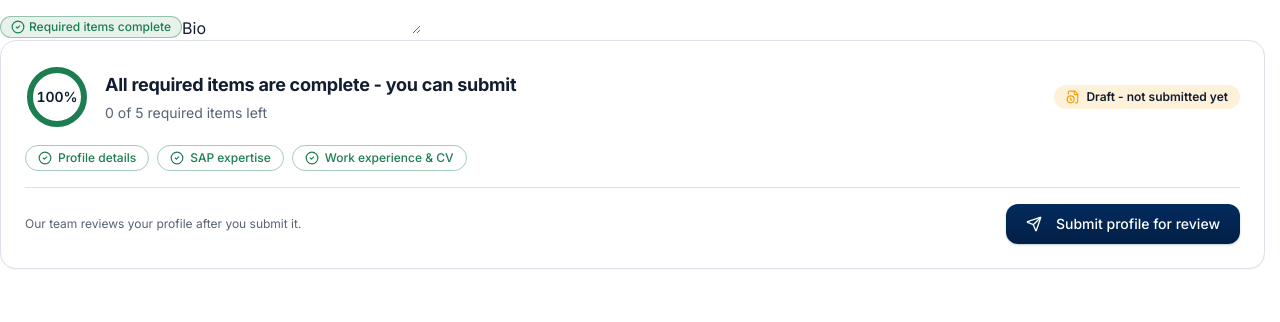
profile submit gate (Feature V) › shows the server's refusal when it still finds missing items
Click the button with test id "submit-profile". click: point(1123, 224)
box: [1006, 204, 1240, 244]
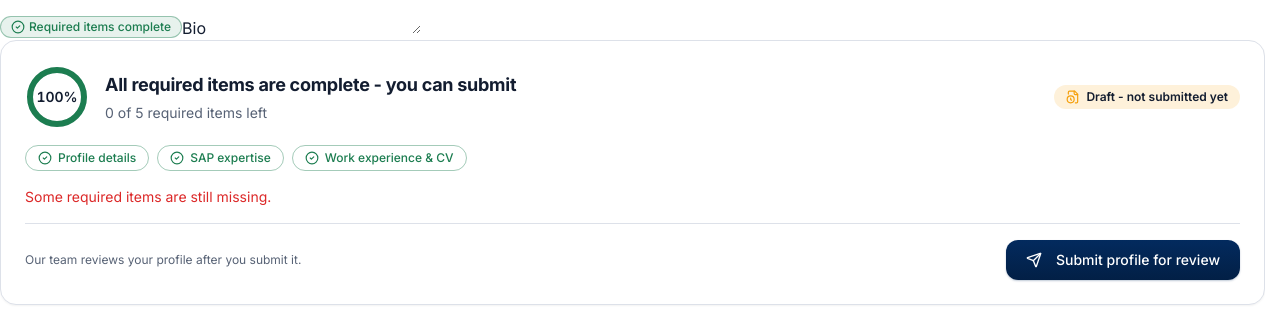
Check: the message reads "Some required items are still missing.", box [25, 188, 271, 205]
